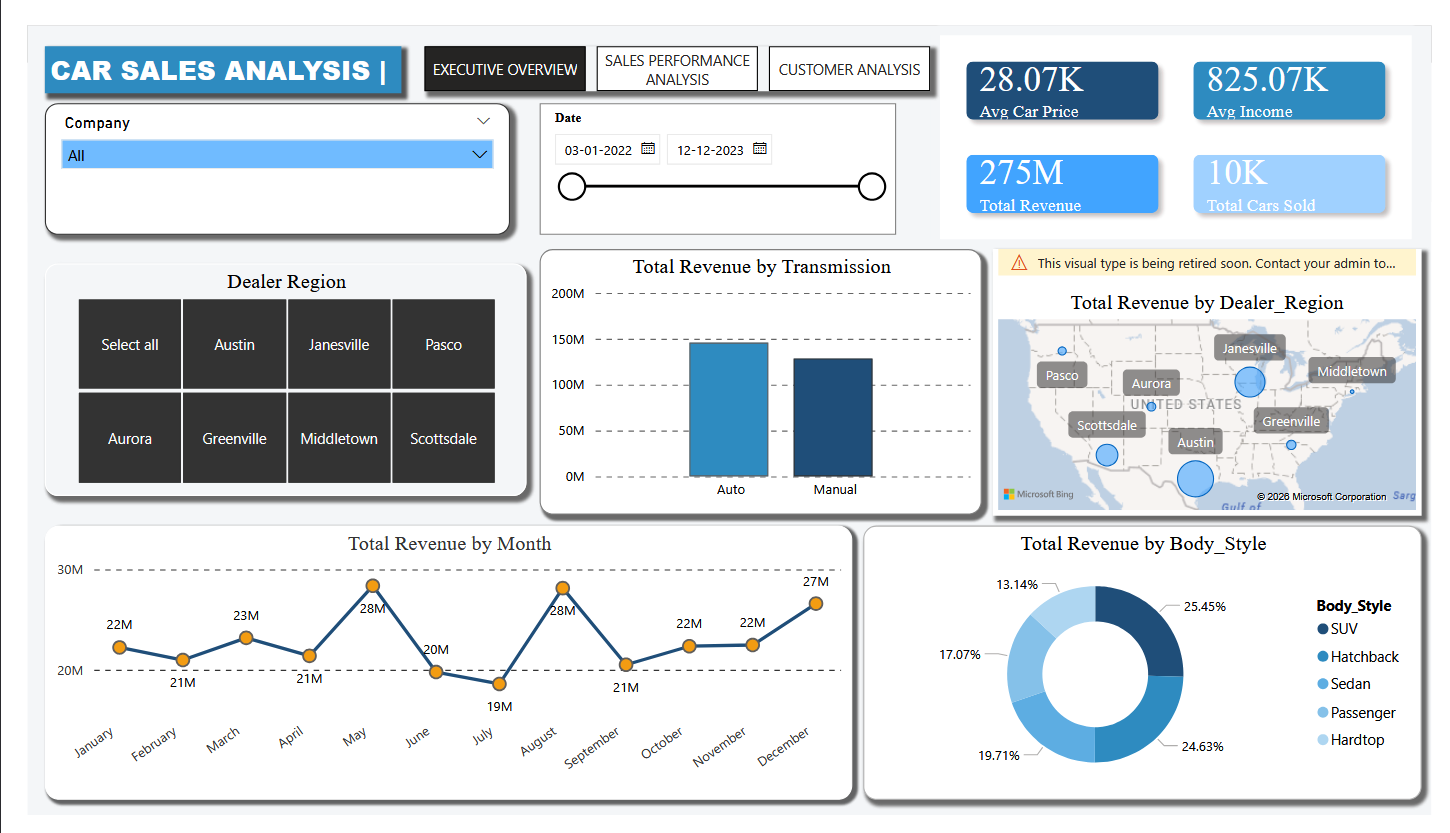

Layout of this report page (visuals, bound fields, positions):
{"tool":"powerbi","page":{"name":"EXECUTIVE OVERVIEW","canvas":[1280,720],"ordinal":0},"visuals":[{"type":"textbox","box":[16.3,19,324.5,43.4],"z":0},{"type":"cardVisual","fields":{"Data":["Car Sales.Avg Car Price","Car Sales.Avg Income","Car Sales.Total Revenue","Car Sales.Total Cars Sold"]},"box":[822.7,0,448,203.6],"z":1000},{"type":"lineChart","fields":{"Y":["Car Sales.Total Revenue"],"Category":["Car Sales.Date.Variation.Date Hierarchy.Month"]},"box":[16.3,456.2,735.9,249.8],"z":2000},{"type":"donutChart","fields":{"Category":["Car Sales.Body_Style"],"Y":["Car Sales.Total Revenue"]},"box":[761.6,456.2,509.1,249.8],"z":3000},{"type":"slicer","fields":{"Values":["Car Sales.Company"]},"box":[16.3,70.6,423.6,120.8],"z":4000},{"type":"slicer","fields":{"Values":["Car Sales.Date"]},"box":[467,70.6,324.5,120.8],"z":5000},{"type":"slicer","title":"Dealer Region","fields":{"Values":["Car Sales.Dealer_Region"]},"box":[16.3,217.2,438.5,211.8],"z":6000},{"type":"map","fields":{"Category":["Car Sales.Dealer_Region"],"Size":["Car Sales.Total Revenue"]},"box":[879.8,203.6,391,243],"z":7000},{"type":"columnChart","fields":{"Category":["Car Sales.Transmission"],"Y":["Car Sales.Total Revenue"]},"box":[466.7,203.6,403.6,242.9],"z":8000},{"type":"pageNavigator","box":[362.5,19,460.2,40.7],"z":9000}]}

Visuals, with their boxes in screenshot pixels (x1, y1, x2, y2), scaled from the page's 1280x720 canvas onto the 1450x833 screenshot:
textbox: <box>18,22,386,72</box>
cardVisual - Car Sales.Avg Car Price x Car Sales.Avg Income: <box>932,0,1439,236</box>
lineChart - Car Sales.Total Revenue x Car Sales.Date.Variation.Date Hierarchy.Month: <box>18,528,852,817</box>
donutChart - Car Sales.Body_Style x Car Sales.Total Revenue: <box>863,528,1439,817</box>
slicer - Car Sales.Company: <box>18,82,498,221</box>
slicer - Car Sales.Date: <box>529,82,897,221</box>
"Dealer Region" slicer: <box>18,251,515,496</box>
map - Car Sales.Dealer_Region x Car Sales.Total Revenue: <box>997,236,1440,517</box>
columnChart - Car Sales.Transmission x Car Sales.Total Revenue: <box>529,236,986,517</box>
pageNavigator: <box>411,22,932,69</box>
